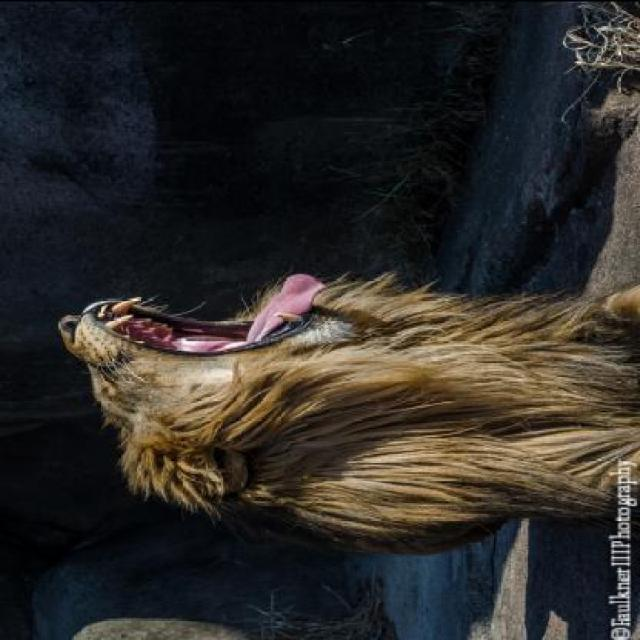Lion: (37, 237, 638, 563)
